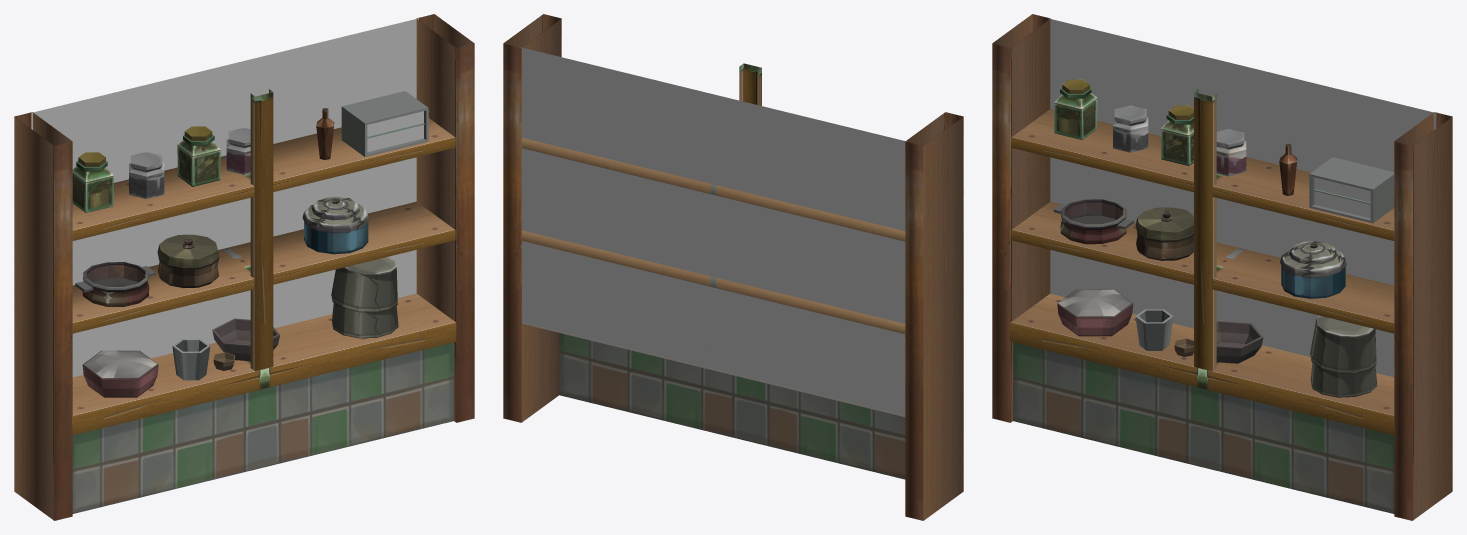
File: jj-gecengguizi1.FBX
3 renders of one model, left to right at view 1: azimuth 30°, elevation 25°; view 2: azimuth 150°, elevation 25°; view 3: azimuth 330°, elevation 25°, orthographic.
Visible parts, largest first — view 1: jj-gecengguizi1_b, jj-gecengguizi1_a; view 2: jj-gecengguizi1_a, jj-gecengguizi1_b; view 3: jj-gecengguizi1_b, jj-gecengguizi1_a.
Part boxes in pixels (box(x1,y1,x2,y2)): jj-gecengguizi1_b: box(14, 14, 474, 520); jj-gecengguizi1_a: box(31, 18, 423, 377); jj-gecengguizi1_a: box(519, 47, 906, 416); jj-gecengguizi1_b: box(503, 14, 963, 520); jj-gecengguizi1_b: box(992, 14, 1452, 520); jj-gecengguizi1_a: box(1048, 18, 1436, 377).
Size of the model in its own units: 299 by 255 by 50.34.
